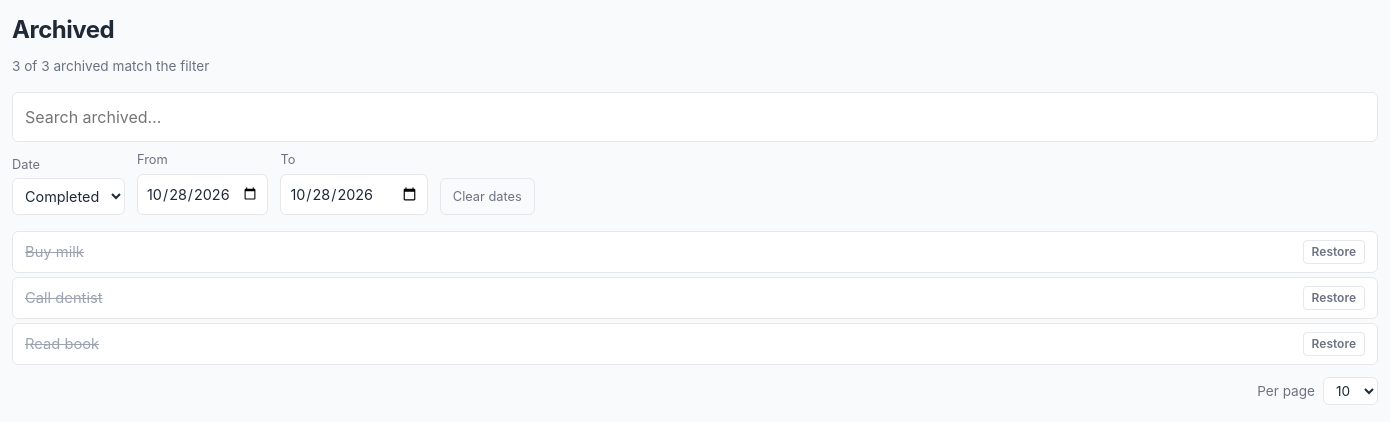
Test case: ArchivedView — search + pagination (#92) › filters by a case-insensitive substring of title or notes
Type "milk" into the field labelled "Search archived…" at (695, 117), box [12, 92, 1378, 142]
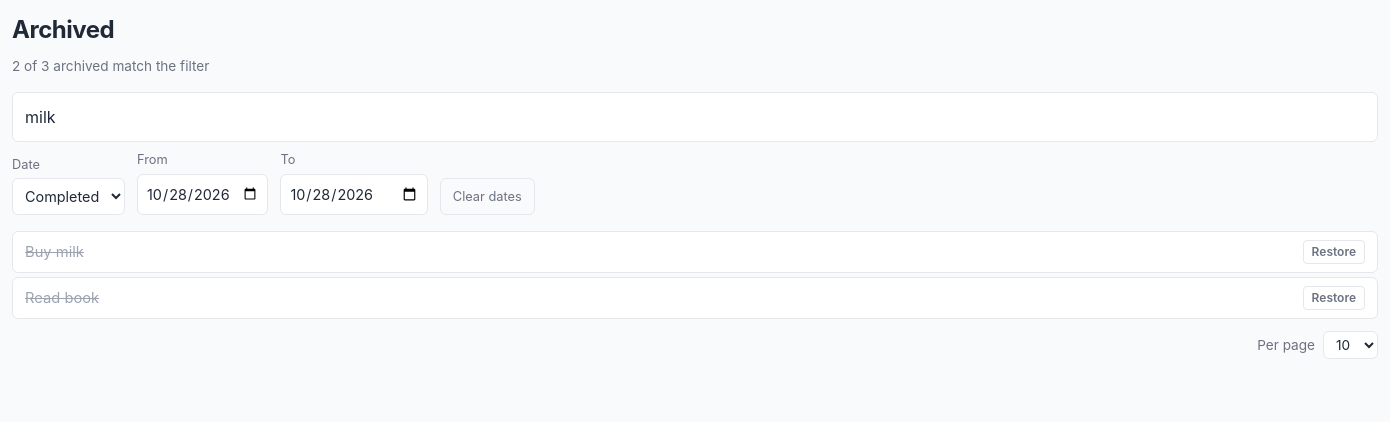
Expected: the text "Buy milk" is shown, [25, 243, 84, 261]
Result: the button "Call dentist" is gone
